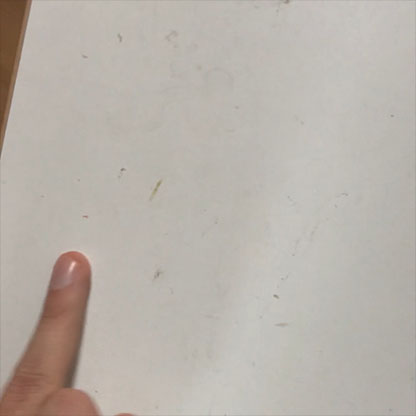fingertip: (44, 245, 96, 311)
